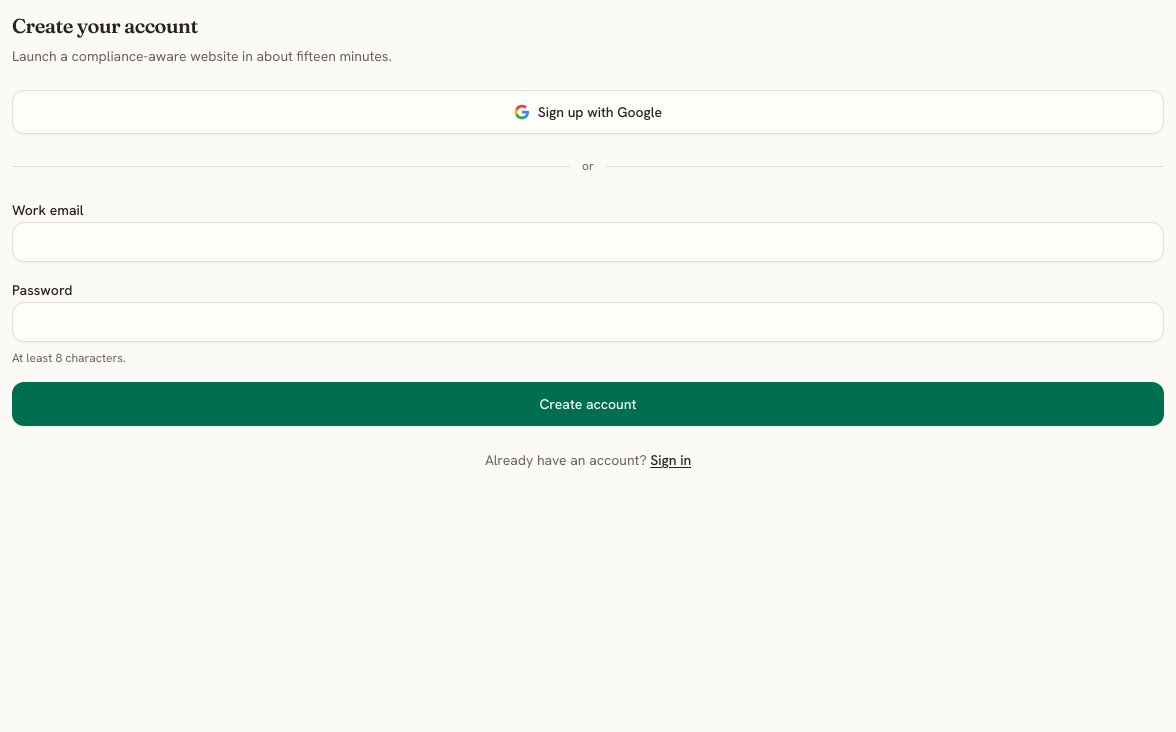
<SignupForm /> › surfaces a server error envelope as a form message
Type "new@example.com" into the field labelled "Work email" at [588, 242], box 12,222 -> 1164,262
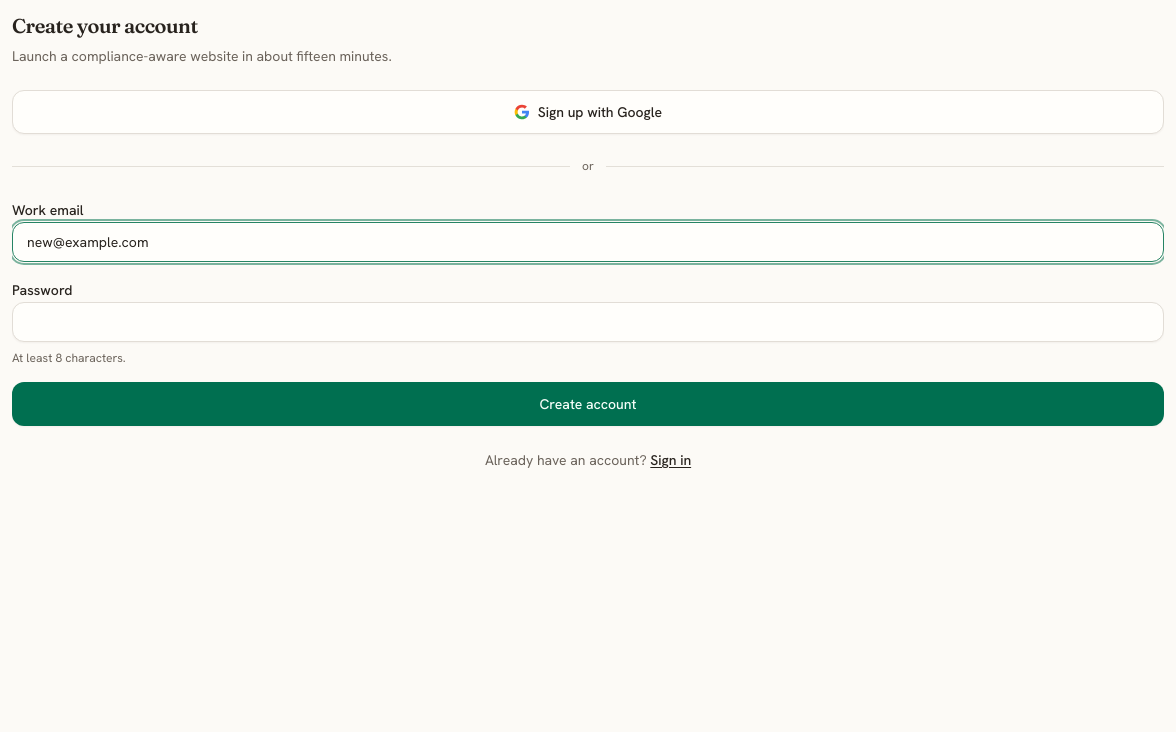
Type "hunter22" into the password field labelled "Password" at [588, 322], box 12,302 -> 1164,342
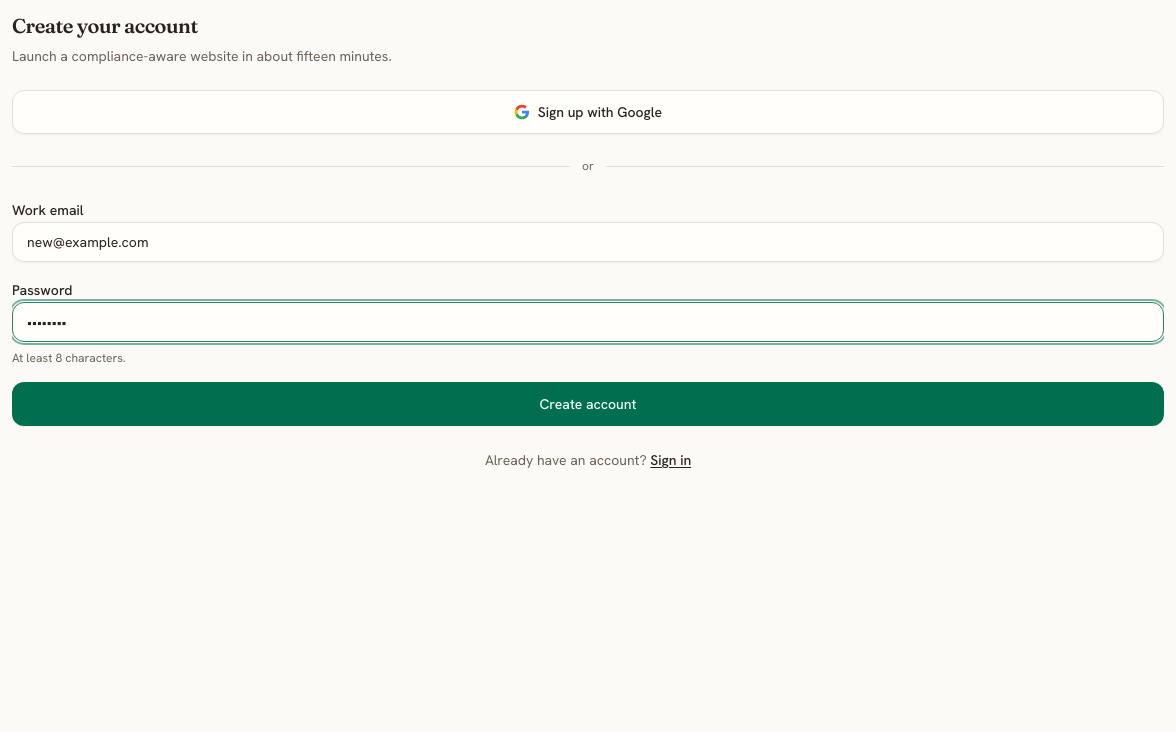
Click the button "Create account" at [588, 404], box 12,382 -> 1164,426
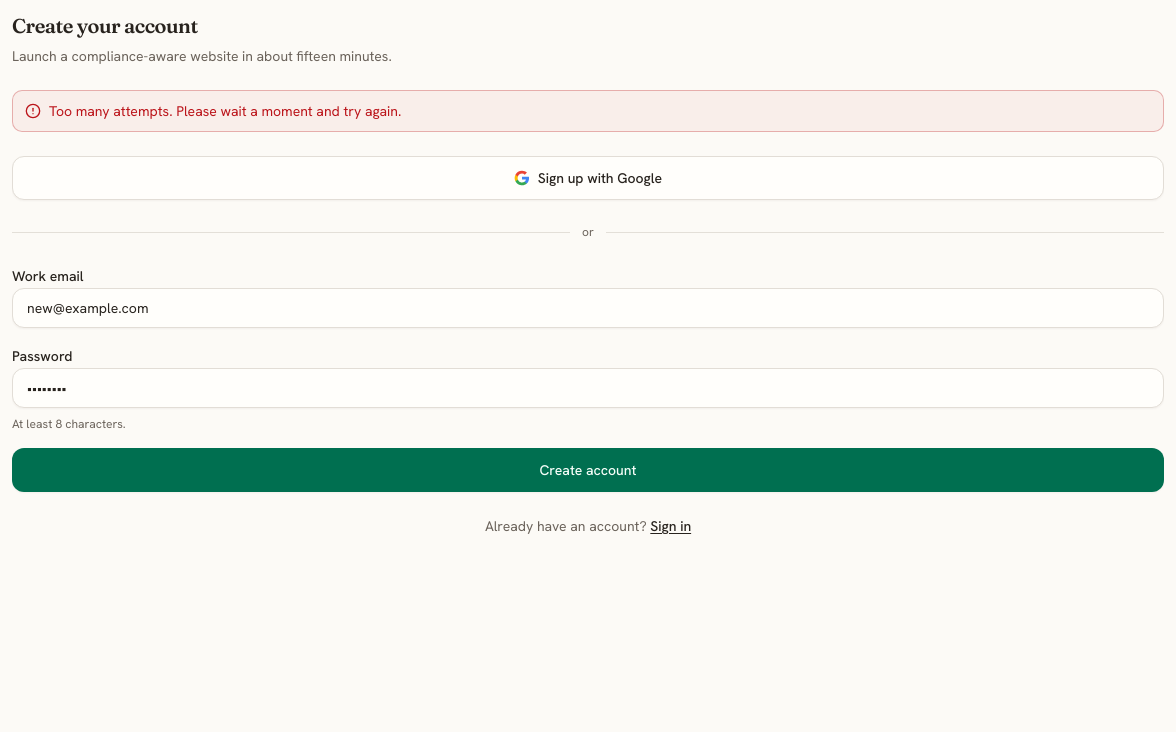
Now the text "Too many attempts. Please wait a moment and try again." is shown, box 49,101 -> 401,121
